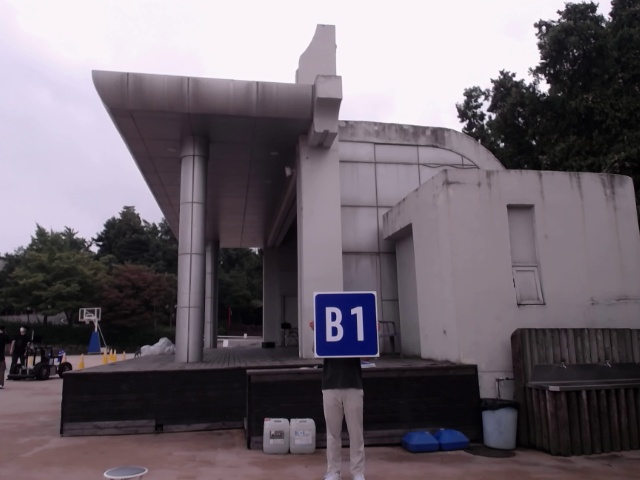delivery_b1: (313, 292, 379, 357)
